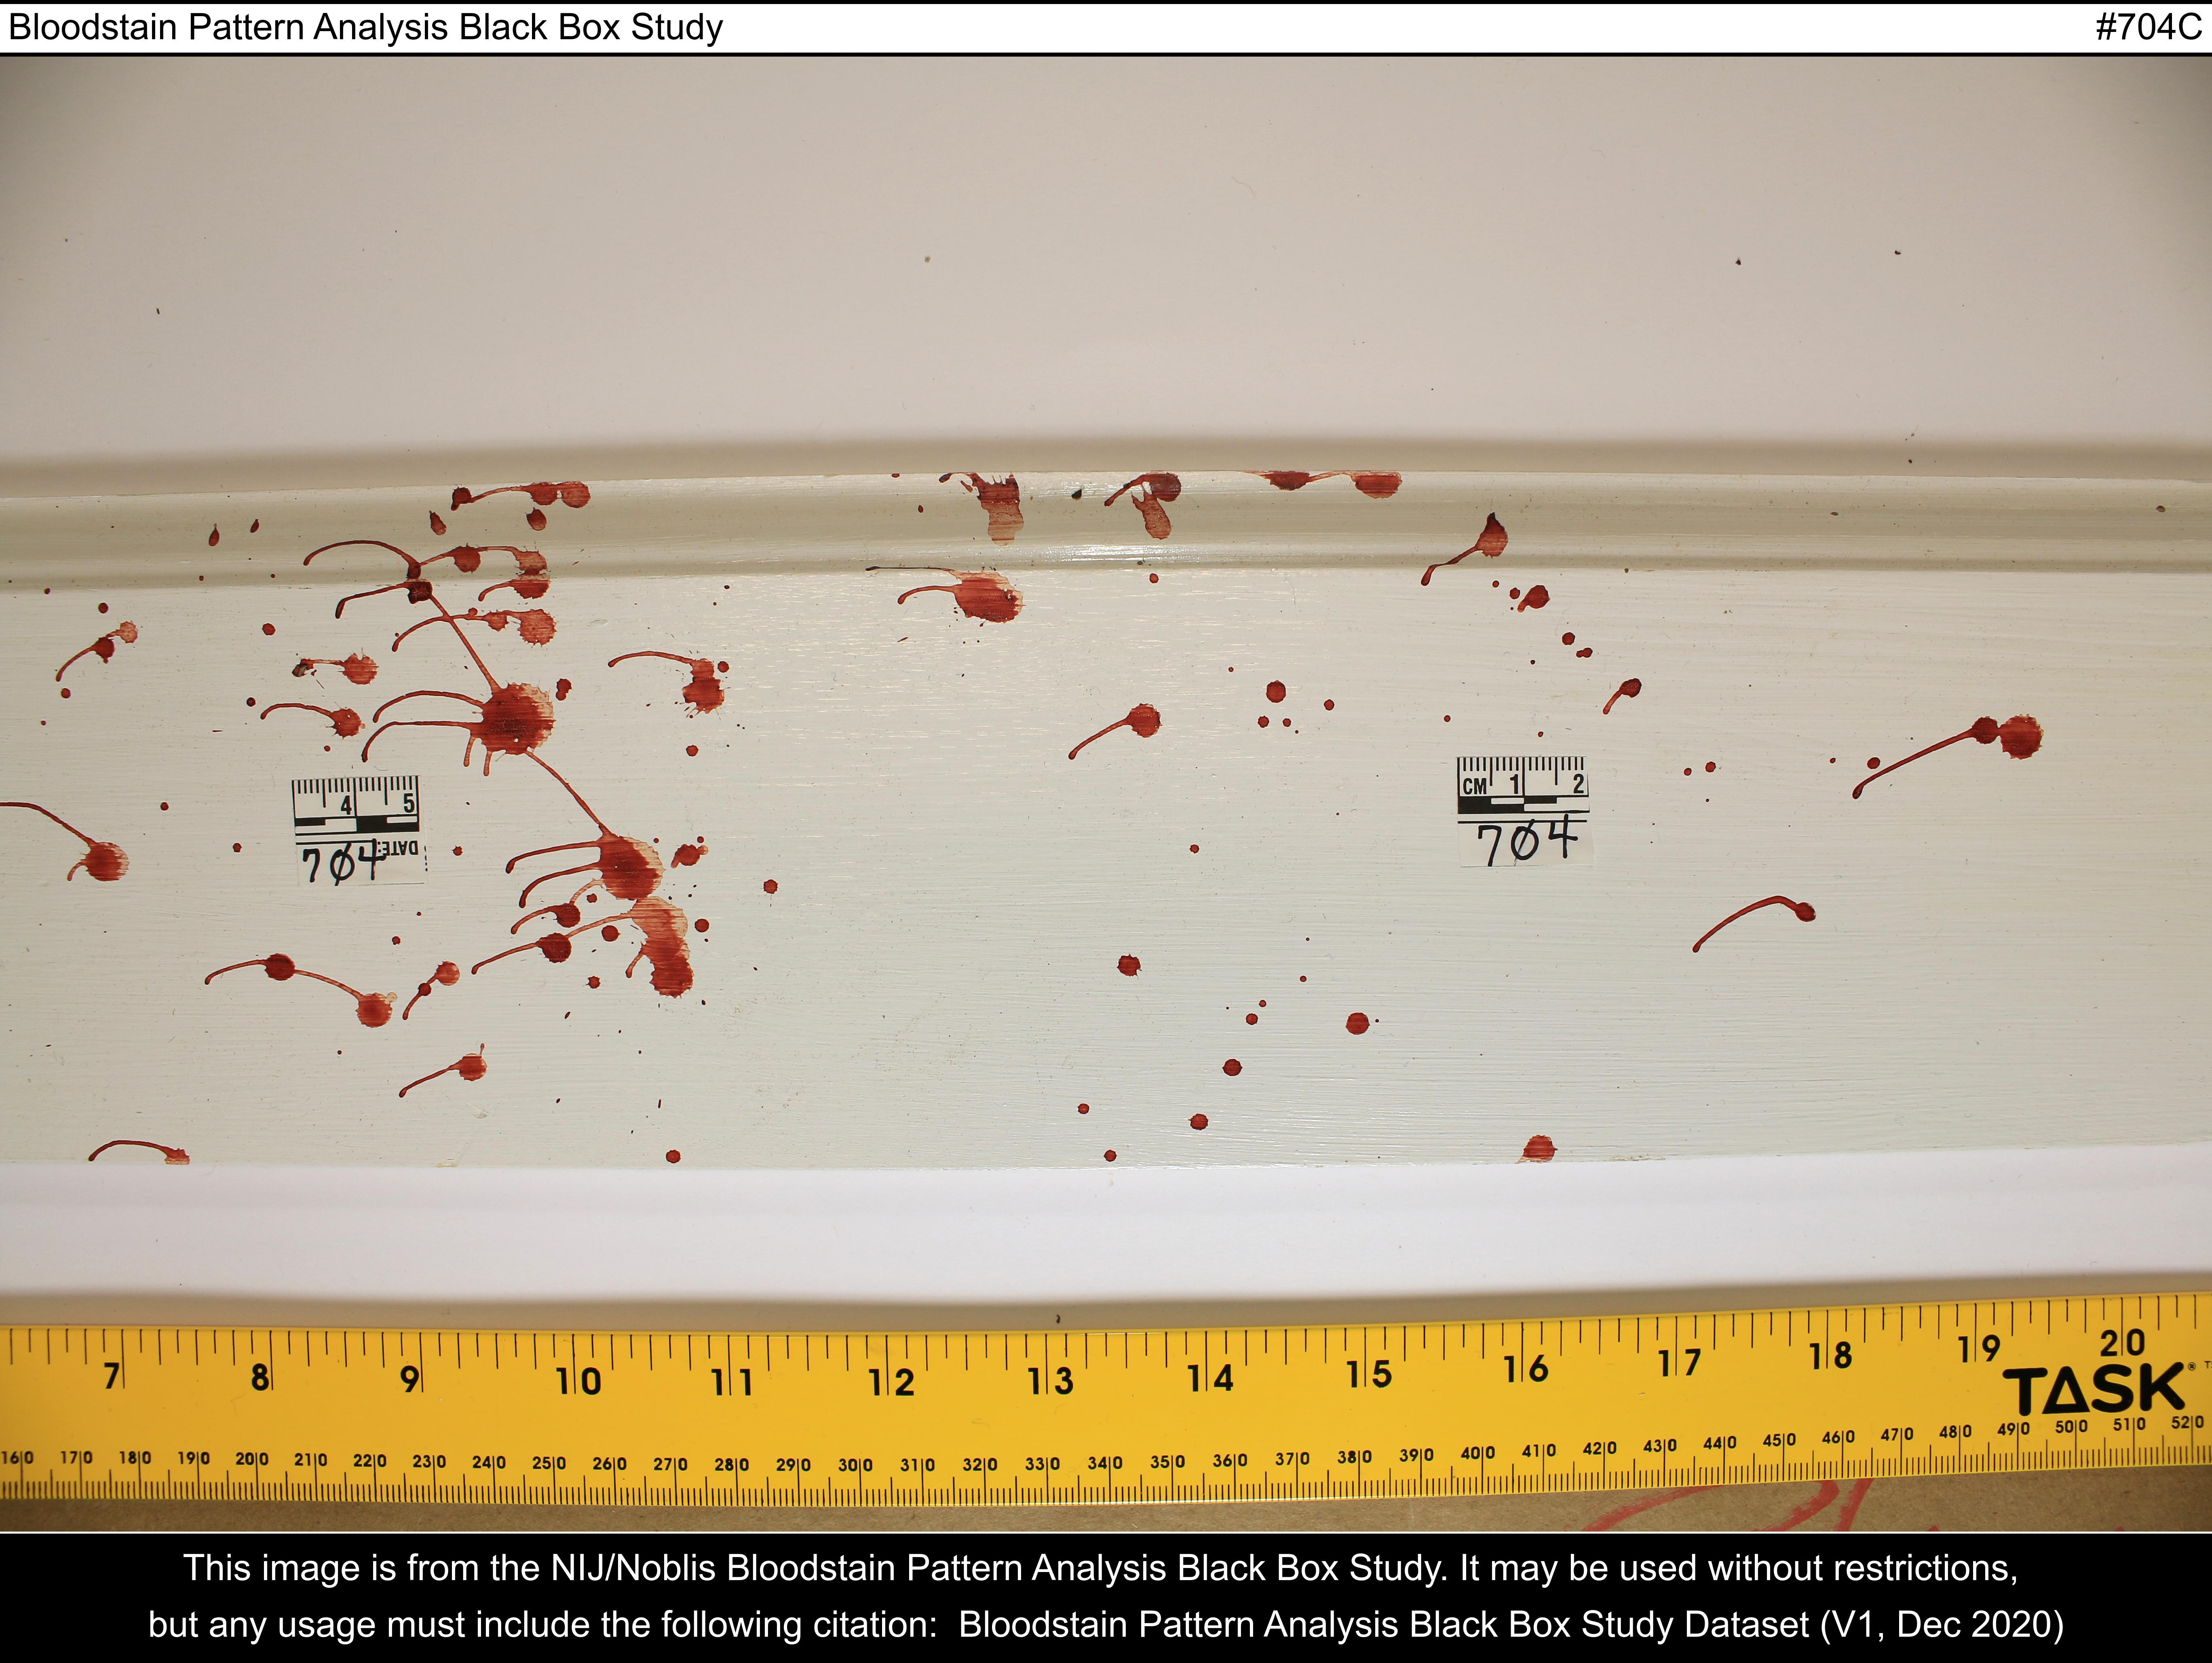Transfer: (452, 603, 765, 1094)
